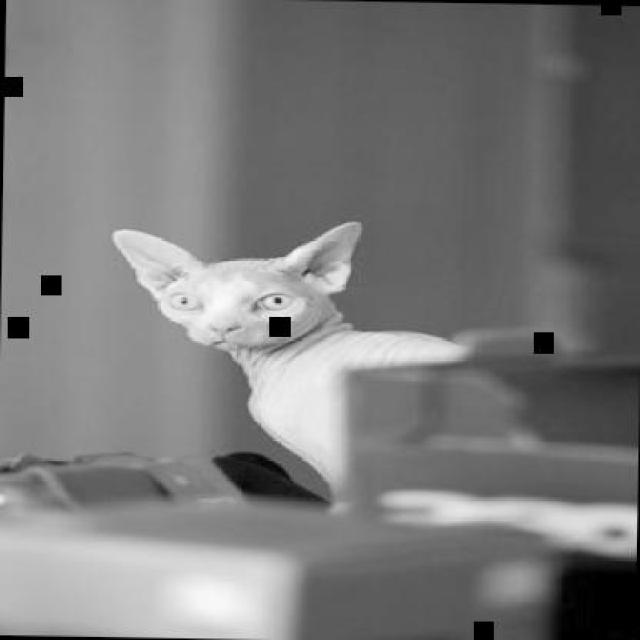cat: (109, 215, 468, 508)
